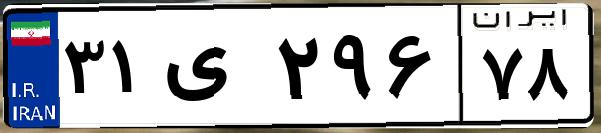1: (110, 28, 158, 98)
2: (270, 28, 330, 110)
3: (57, 26, 110, 100)
6: (385, 28, 445, 110)
7: (475, 38, 525, 113)
8: (525, 38, 570, 115)
9: (330, 28, 385, 110)
ی: (158, 20, 270, 120)
